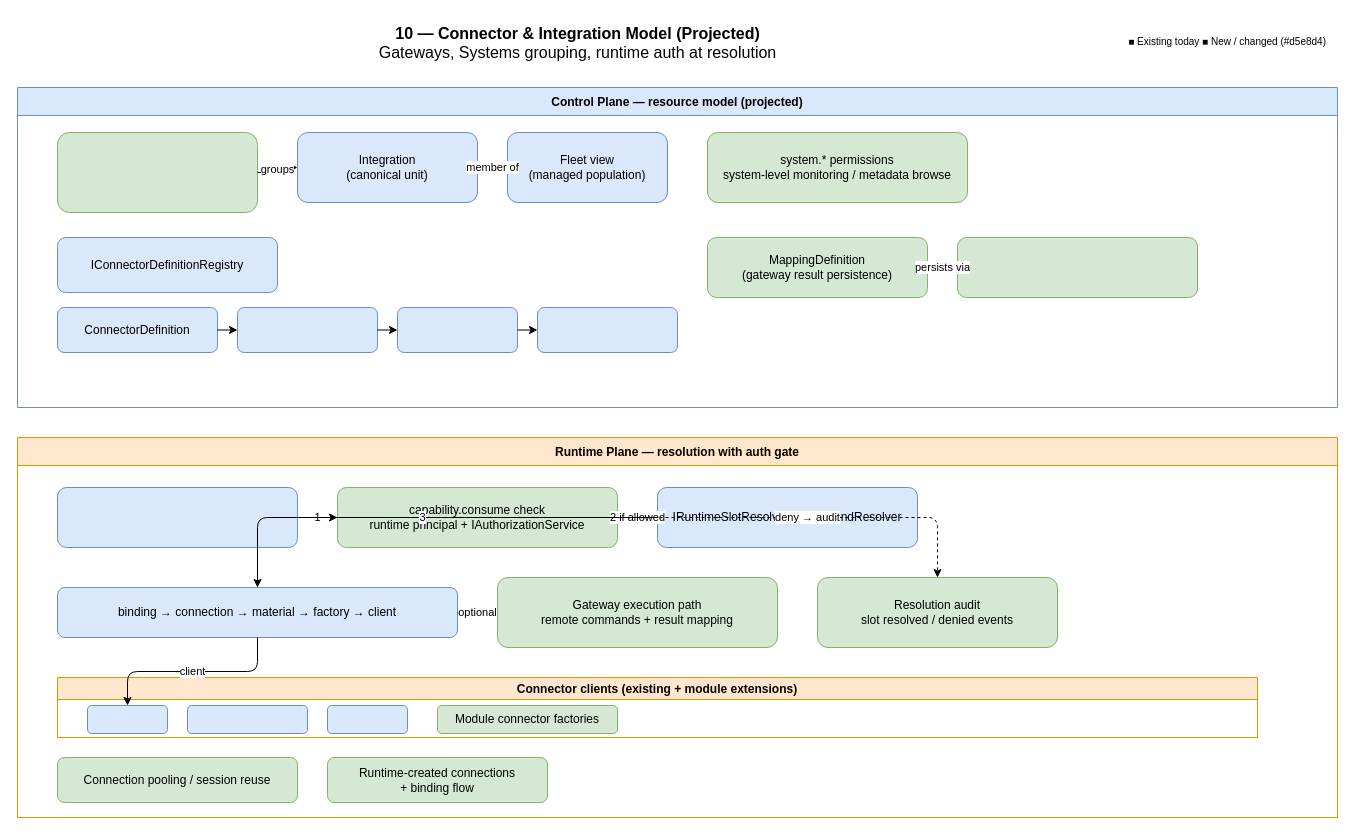
The diagram is 1355 pixels wide and 835 high, and some of its shapes have lost their labels. The shapes that lost their labels are listed below. From the top down, each one's box as (x1, y1, x2, y2) in pixels, then its label:
(56, 132, 258, 212): System (logical grouping layer) ADR-0034
(956, 236, 1198, 298): Gateway workflows mapping.manage + remote object model
(236, 306, 378, 352): Connection
(396, 306, 518, 352): Binding
(536, 306, 678, 352): CapabilitySlot
(56, 486, 298, 548): Resolve request (integrationId, moduleId, slotName)
(86, 704, 168, 734): SQL
(186, 704, 308, 734): Campus Nexus
(326, 704, 408, 734): SFTP
